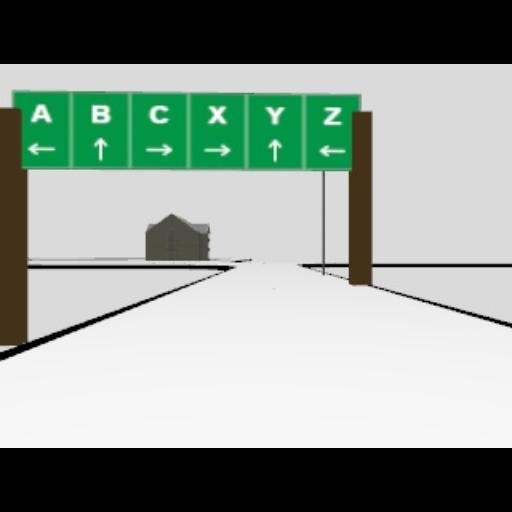A: (30, 102, 52, 122)
B: (90, 104, 110, 124)
C: (148, 104, 168, 124)
Left: (27, 142, 57, 156), (316, 144, 346, 156)
Right: (144, 142, 172, 156), (204, 144, 230, 156)
Straight: (93, 136, 107, 160), (267, 138, 281, 160)
X: (206, 104, 228, 124)
Y: (264, 104, 284, 124)
Z: (322, 106, 342, 124)
